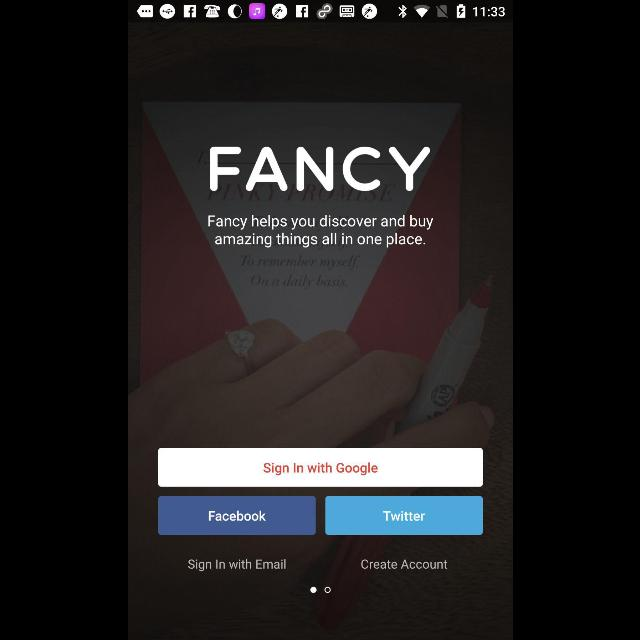backgroundimage: (128, 22, 512, 640)
pageindicator: (310, 586, 330, 594)
text: (209, 146, 429, 192), (208, 215, 432, 248), (187, 558, 285, 572), (360, 559, 448, 569)
textbutton: (158, 448, 482, 487), (324, 496, 482, 536), (157, 496, 315, 534)
uppertaskbar: (128, 1, 512, 23)
